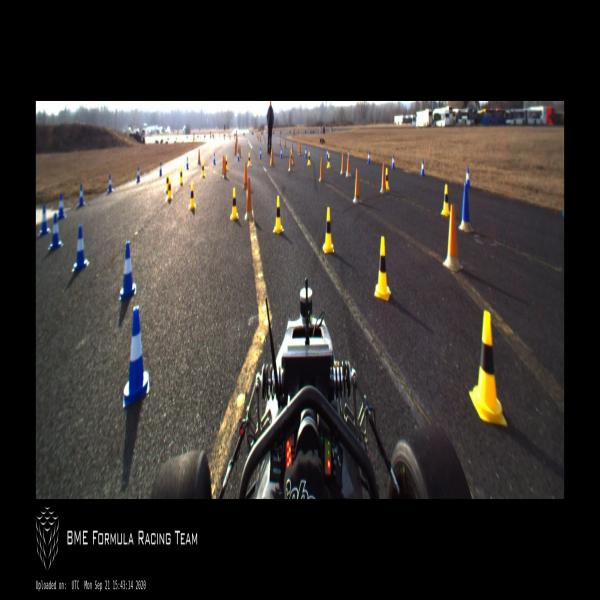blue_cone: (123, 304, 150, 408), (120, 239, 136, 300), (71, 225, 89, 272), (47, 213, 64, 251), (39, 202, 50, 233), (57, 191, 66, 219), (77, 183, 85, 206), (466, 166, 471, 190), (107, 174, 113, 192), (420, 159, 425, 176), (392, 154, 396, 169), (136, 167, 140, 182), (367, 150, 371, 164), (159, 162, 163, 176), (212, 152, 216, 166), (186, 156, 189, 170), (237, 149, 240, 162), (259, 147, 262, 159), (280, 147, 283, 159), (305, 147, 308, 158), (326, 146, 328, 160)
unknown_cone: (443, 204, 463, 272), (458, 183, 473, 232), (245, 178, 253, 222), (352, 168, 361, 205), (379, 162, 386, 194), (288, 150, 294, 173), (319, 155, 324, 182), (346, 152, 351, 178), (340, 152, 345, 175), (223, 158, 228, 180), (244, 162, 248, 186), (270, 147, 274, 167)
yellow_cone: (469, 312, 507, 429), (373, 234, 392, 303), (322, 206, 335, 254), (273, 195, 284, 235), (441, 183, 451, 218), (230, 186, 239, 221), (188, 182, 196, 210), (167, 179, 173, 200), (385, 167, 390, 190), (179, 167, 184, 185), (201, 160, 205, 178), (326, 152, 330, 168), (307, 151, 311, 166), (248, 153, 252, 167), (166, 174, 168, 192), (226, 154, 228, 171)
